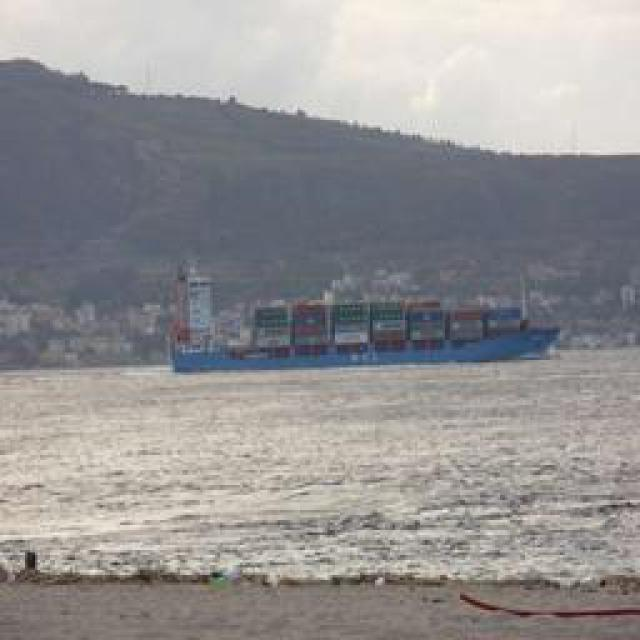Ship: (163, 266, 558, 369)
